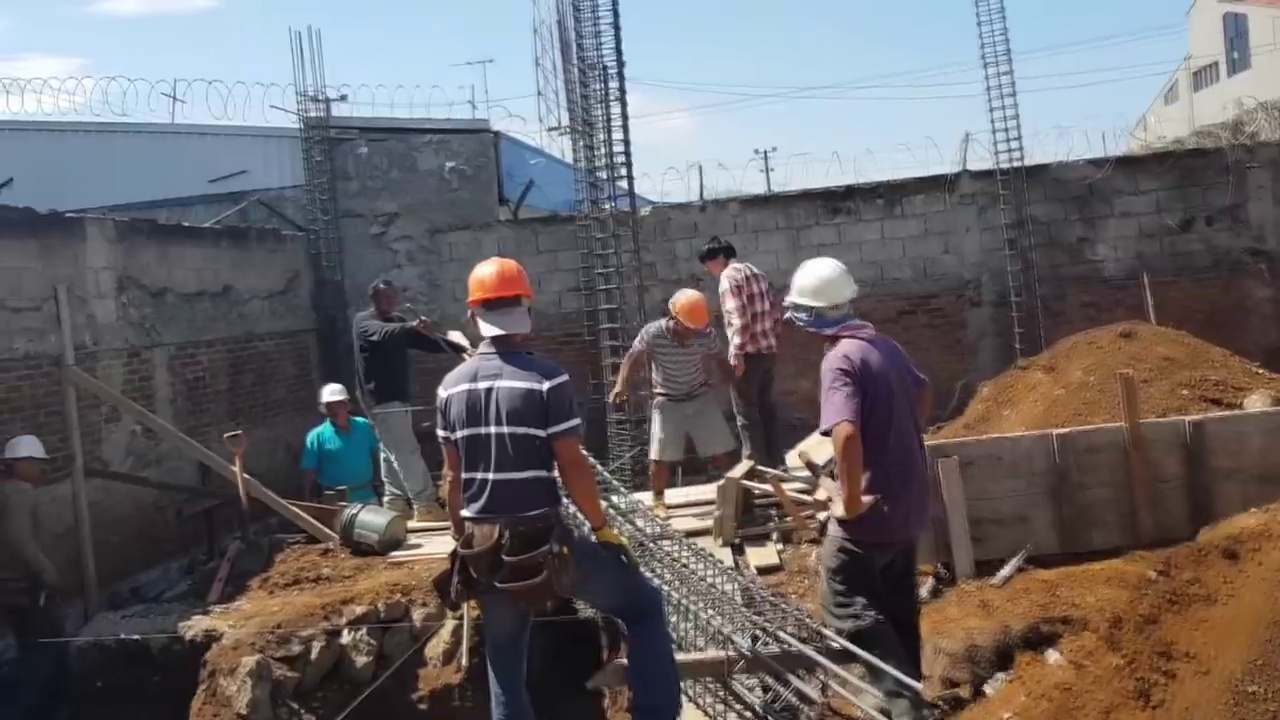helmet: (779, 256, 859, 314), (461, 260, 535, 307), (0, 433, 53, 465), (668, 290, 709, 329), (317, 385, 352, 414)
helmet-off: (700, 238, 740, 282), (366, 285, 395, 318)
helmet-on: (460, 262, 538, 360), (781, 253, 860, 339), (0, 433, 54, 482), (667, 289, 710, 348), (317, 385, 351, 427)
person: (439, 258, 660, 716), (787, 261, 930, 680), (604, 287, 741, 508), (354, 274, 458, 527), (700, 238, 789, 490), (292, 384, 389, 510), (3, 432, 57, 622)
